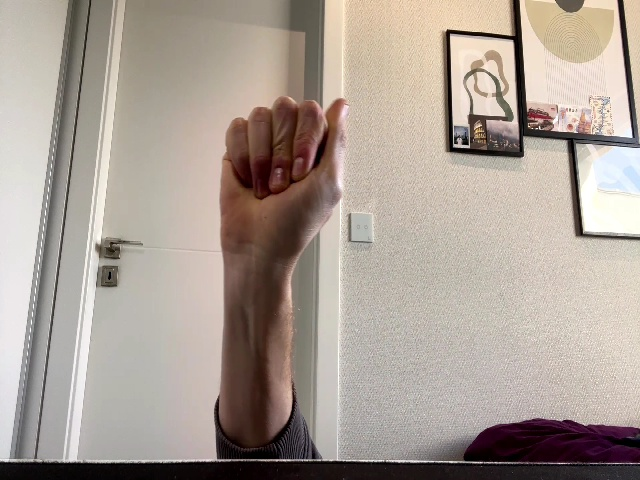A: (219, 95, 351, 266)
